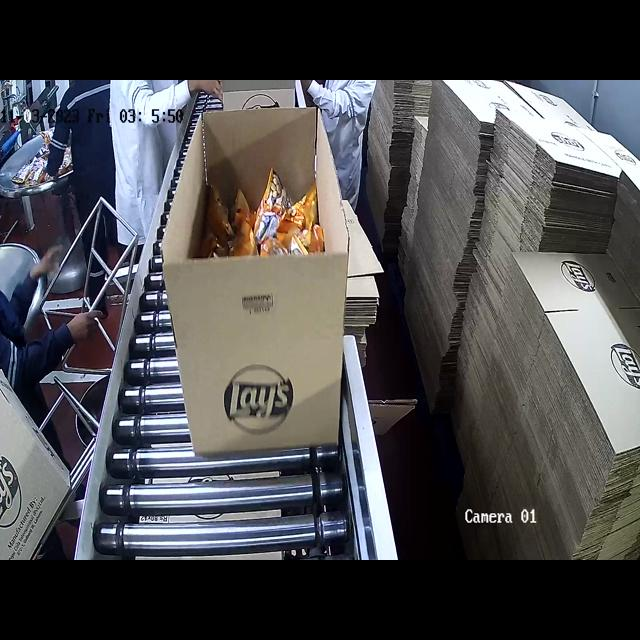cheese: (212, 171, 320, 272)
